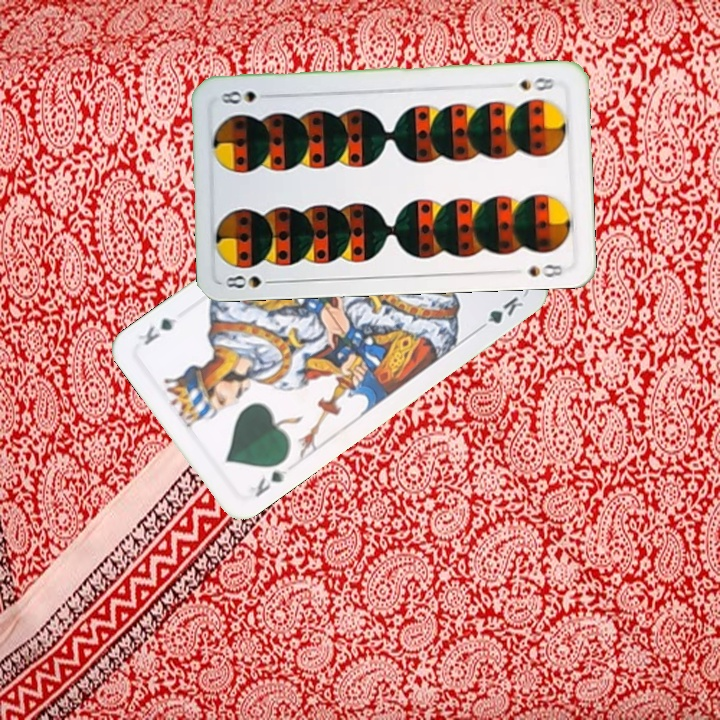GK: (251, 464, 290, 500)
S8: (221, 271, 280, 292), (515, 73, 557, 94)
